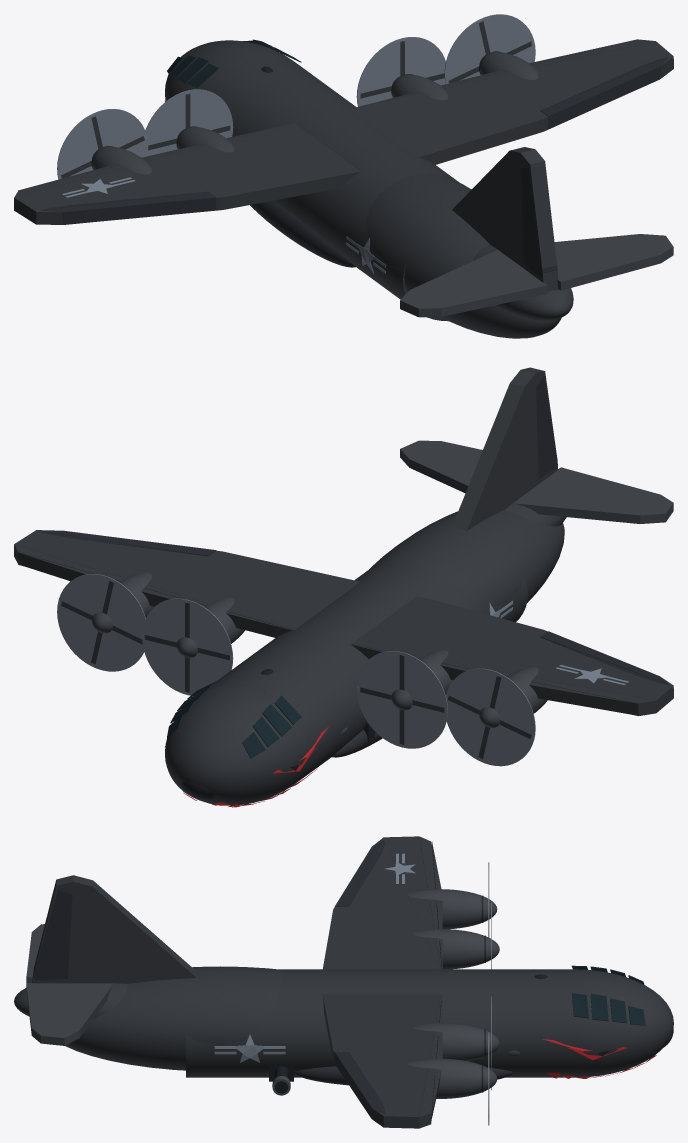
The picture shows the model from 3 angles, top to bottom: view 1: azimuth 30°, elevation 25°; view 2: azimuth 150°, elevation 25°; view 3: azimuth 270°, elevation 25°; orthographic projection. The views are drawn at different scales.
Visible parts, largest first — view 1: Cargo cabin, Cargo rear shell, Port wing.6.2, Starboard wing.6.2, Starboard wing.5.1, Port2 translucent sweep, Starboard2 translucent sweep, Starboard1 translucent sweep, Port wing.5.1, Port1 translucent sweep, Starboard wing.3.2, Dorsal fin.4.1 (+29 smaller); view 2: Cargo cabin, Rounded flight deck, Cargo rear shell, Port1 translucent sweep, Port2 translucent sweep, Starboard2 translucent sweep, Starboard1 translucent sweep, Starboard wing.5.1, Port wing.5.1, Starboard wing.6.2, Starboard wing.3.2, Port wing.6.2 (+27 smaller); view 3: Cargo cabin, Cargo rear shell, Rounded flight deck, Dorsal fin.4.1, Port wing.5.1, Starboard wing.5.1, Port wing.6.2, Starboard wing.6.2, Starboard wing.3.2, Starboard2 nacelle, Port wing.3.2, Port1 nacelle (+26 smaller).
Boxes of the visible parts, <box> form: Cargo cabin: <box>198,53,458,321</box>; Cargo rear shell: <box>366,173,561,338</box>; Port wing.6.2: <box>222,149,360,209</box>; Starboard wing.6.2: <box>407,115,543,164</box>; Starboard wing.5.1: <box>353,86,543,118</box>; Port2 translucent sweep: <box>57,109,148,179</box>; Starboard2 translucent sweep: <box>444,14,535,83</box>; Starboard1 translucent sweep: <box>356,37,445,106</box>; Port wing.5.1: <box>169,124,298,196</box>; Port1 translucent sweep: <box>145,89,233,156</box>; Starboard wing.3.2: <box>351,41,668,109</box>; Dorsal fin.4.1: <box>469,176,523,262</box>; Cargo cabin: <box>206,563,527,780</box>; Rounded flight deck: <box>165,683,310,805</box>; Cargo rear shell: <box>370,509,564,607</box>; Port1 translucent sweep: <box>356,651,447,748</box>; Port2 translucent sweep: <box>446,668,535,766</box>; Starboard2 translucent sweep: <box>57,574,145,671</box>; Starboard1 translucent sweep: <box>142,598,233,695</box>; Starboard wing.5.1: <box>169,551,299,628</box>; Port wing.5.1: <box>353,629,543,661</box>; Starboard wing.6.2: <box>223,551,360,602</box>; Starboard wing.3.2: <box>14,531,295,629</box>; Port wing.6.2: <box>408,595,542,636</box>; Cargo cabin: <box>186,969,575,1077</box>; Cargo rear shell: <box>65,966,281,1070</box>; Rounded flight deck: <box>572,969,673,1077</box>; Dorsal fin.4.1: <box>68,908,190,983</box>; Port wing.5.1: <box>333,902,438,969</box>; Starboard wing.5.1: <box>333,994,438,1056</box>; Port wing.6.2: <box>322,910,399,969</box>; Starboard wing.6.2: <box>322,994,399,1059</box>; Starboard wing.3.2: <box>385,994,440,1119</box>; Starboard2 nacelle: <box>407,1058,497,1098</box>; Port wing.3.2: <box>384,836,440,969</box>; Port1 nacelle: <box>413,929,499,969</box>.
Bounding box in the file's own units: 58.02 × 18.46 × 57.6.
